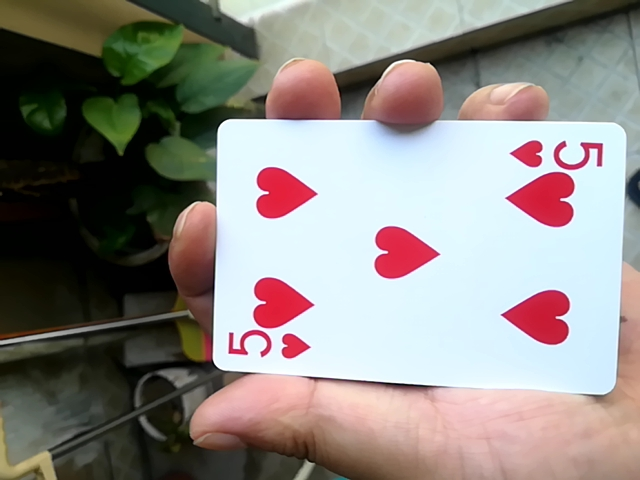hx 5: (209, 108, 632, 391)
